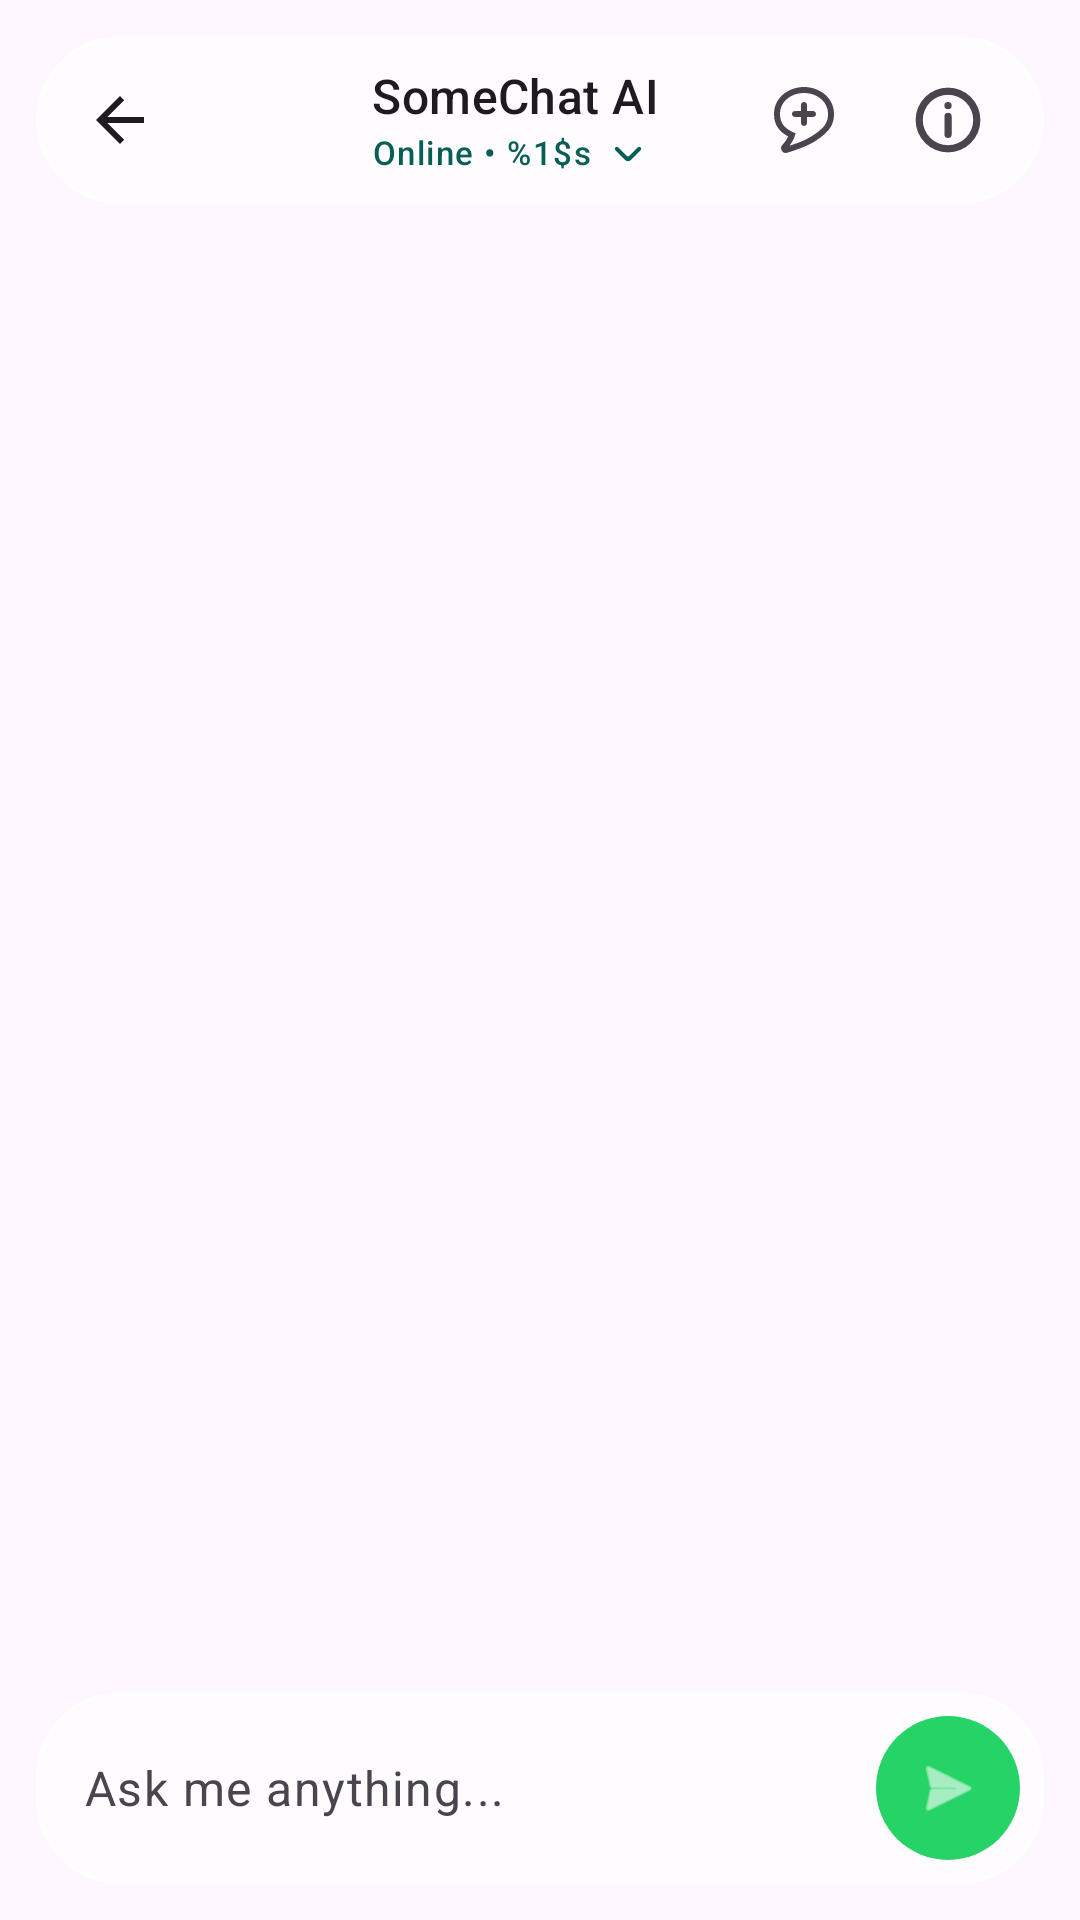

Named icons in this screenshot (1080 x 1920) and their centers, point (x, y):
New Chat: point (804, 120)
